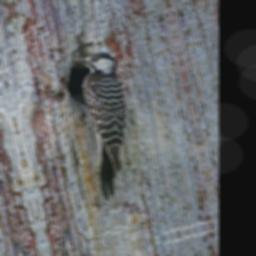Woodpecker: (68, 43, 150, 202)
